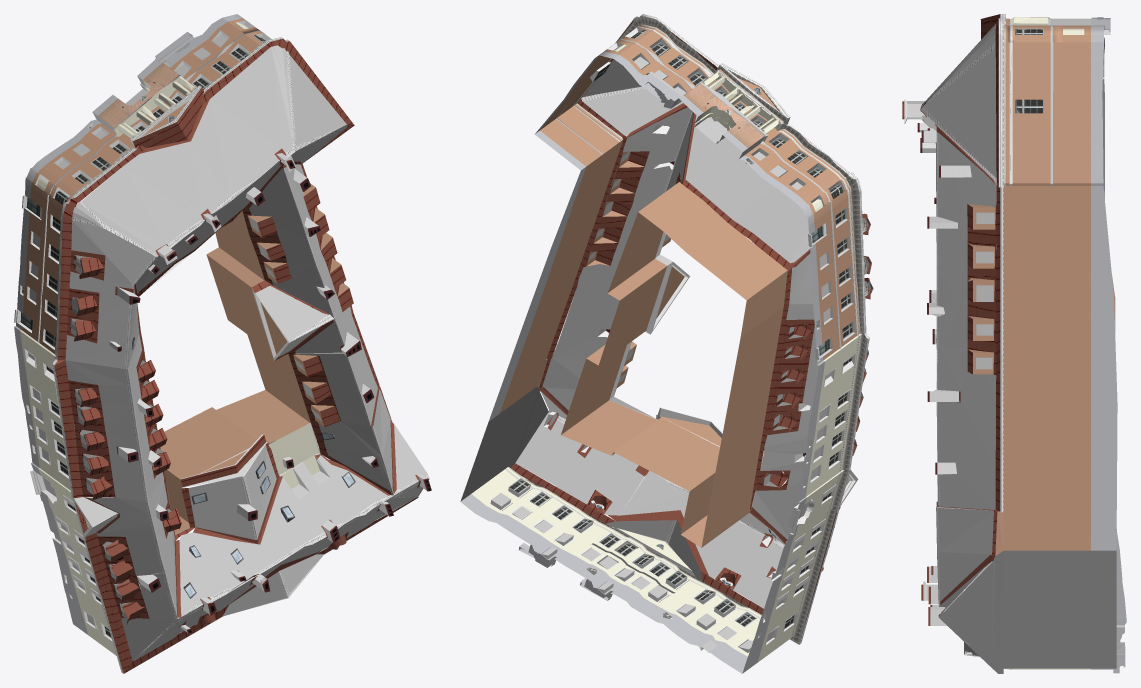
File: Kohtu_2-origo.obj
3 renders of one model, left to right at view 1: azimuth 30°, elevation 25°; view 2: azimuth 150°, elevation 25°; view 3: azimuth 270°, elevation 25°, orthographic. The views are drawn at different scales.
Visible parts, largest first — view 1: Kohtu_2; view 2: Kohtu_2; view 3: Kohtu_2.
Boxes of the visible parts, <box> form: Kohtu_2: <box>14,14,431,673</box>; Kohtu_2: <box>460,14,873,673</box>; Kohtu_2: <box>902,14,1126,673</box>.
Size of the model in its own units: 45.62 by 71.5 by 20.99.
